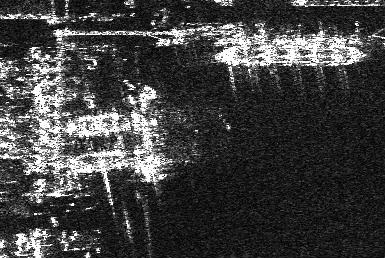ship: (215, 36, 370, 69), (66, 147, 181, 174), (61, 112, 169, 139)
